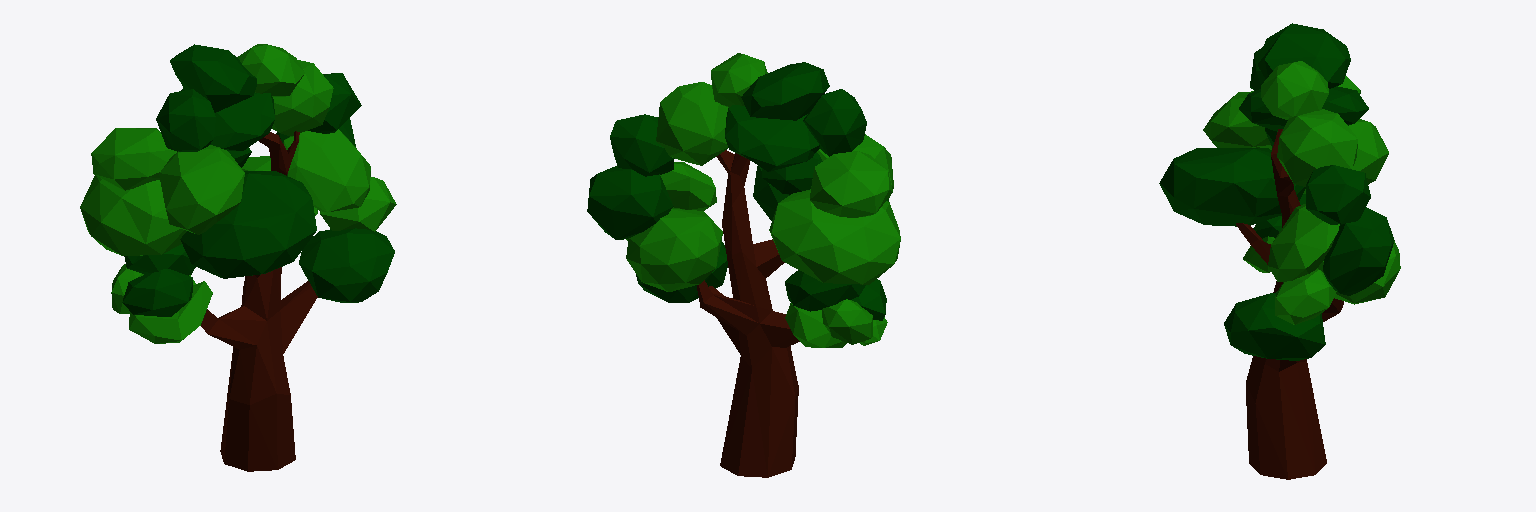
The model's file is oaktreebig.obj.
The picture shows the model from 3 angles: view 1: azimuth 30°, elevation 25°; view 2: azimuth 150°, elevation 25°; view 3: azimuth 270°, elevation 25°; orthographic projection.
Visible parts, largest first — view 1: Oak_Cylinder.004; view 2: Oak_Cylinder.004; view 3: Oak_Cylinder.004.
Boxes of the visible parts, x1,y1,x2,y2 form: Oak_Cylinder.004: [80, 44, 396, 471]; Oak_Cylinder.004: [587, 53, 900, 477]; Oak_Cylinder.004: [1159, 23, 1400, 479].
Size of the model in its own units: 16.87 by 22.62 by 12.11.